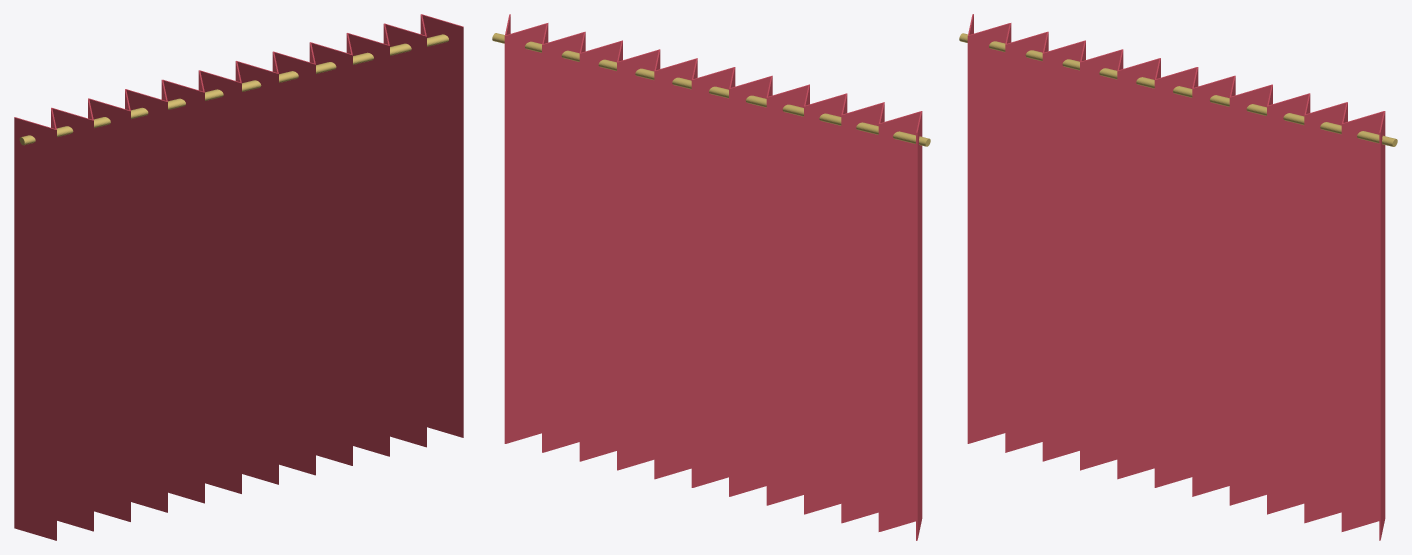
Rendered from curtain2.glb.
3 renders of one model, left to right at view 1: azimuth 30°, elevation 25°; view 2: azimuth 150°, elevation 25°; view 3: azimuth 330°, elevation 25°, orthographic.
Visible parts, largest first — view 1: Mesh_Mesh_head_geo.001_lambert2SG.001; view 2: Mesh_Mesh_head_geo.001_lambert2SG.001; view 3: Mesh_Mesh_head_geo.001_lambert2SG.001.
Part boxes in pixels (x1,y1,x2,y2): Mesh_Mesh_head_geo.001_lambert2SG.001: (14,14,463,540); Mesh_Mesh_head_geo.001_lambert2SG.001: (492,14,930,540); Mesh_Mesh_head_geo.001_lambert2SG.001: (959,14,1397,540).
Bounding box in the file's own units: 0.04 × 0.036 × 0.00444.
